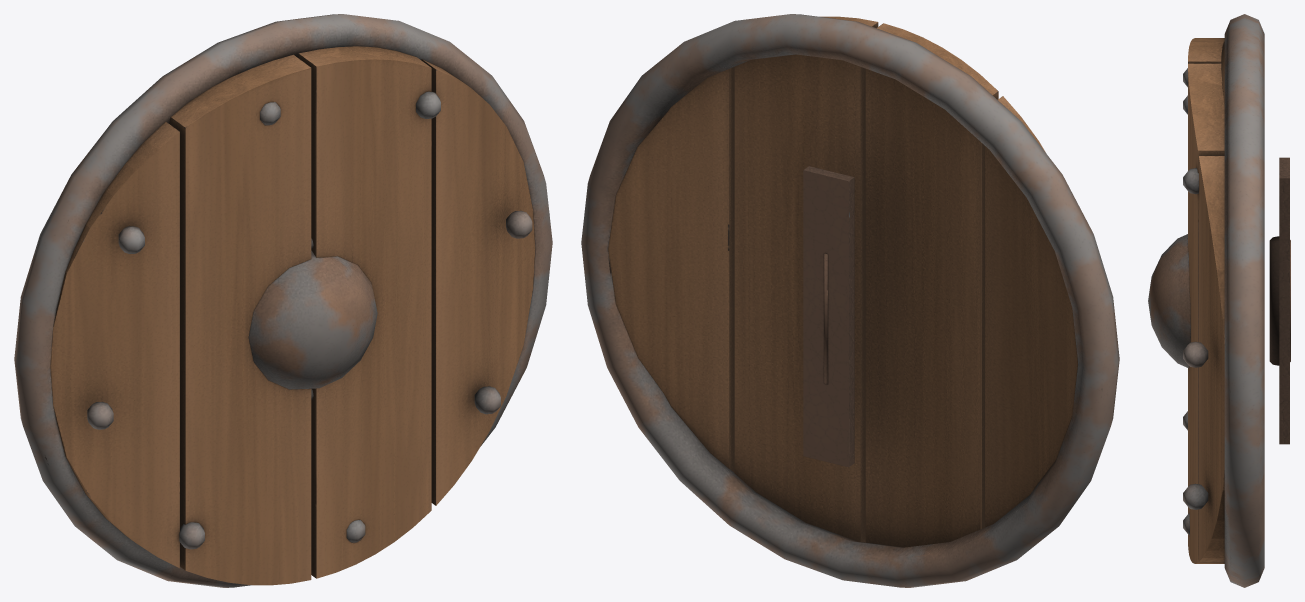
Rendered from light-shield.glb.
3 renders of one model, left to right at view 1: azimuth 30°, elevation 25°; view 2: azimuth 150°, elevation 25°; view 3: azimuth 270°, elevation 25°, orthographic. The views are drawn at different scales.
Parts seen in each view (by area): view 1: light-shield; view 2: light-shield; view 3: light-shield.
Part boxes in pixels (<box>): light-shield: <box>14,14,552,587</box>; light-shield: <box>581,14,1119,587</box>; light-shield: <box>1148,14,1290,587</box>.
Size of the model in its own units: 1.29 by 1.29 by 0.321.
1 material, 1 textured.
